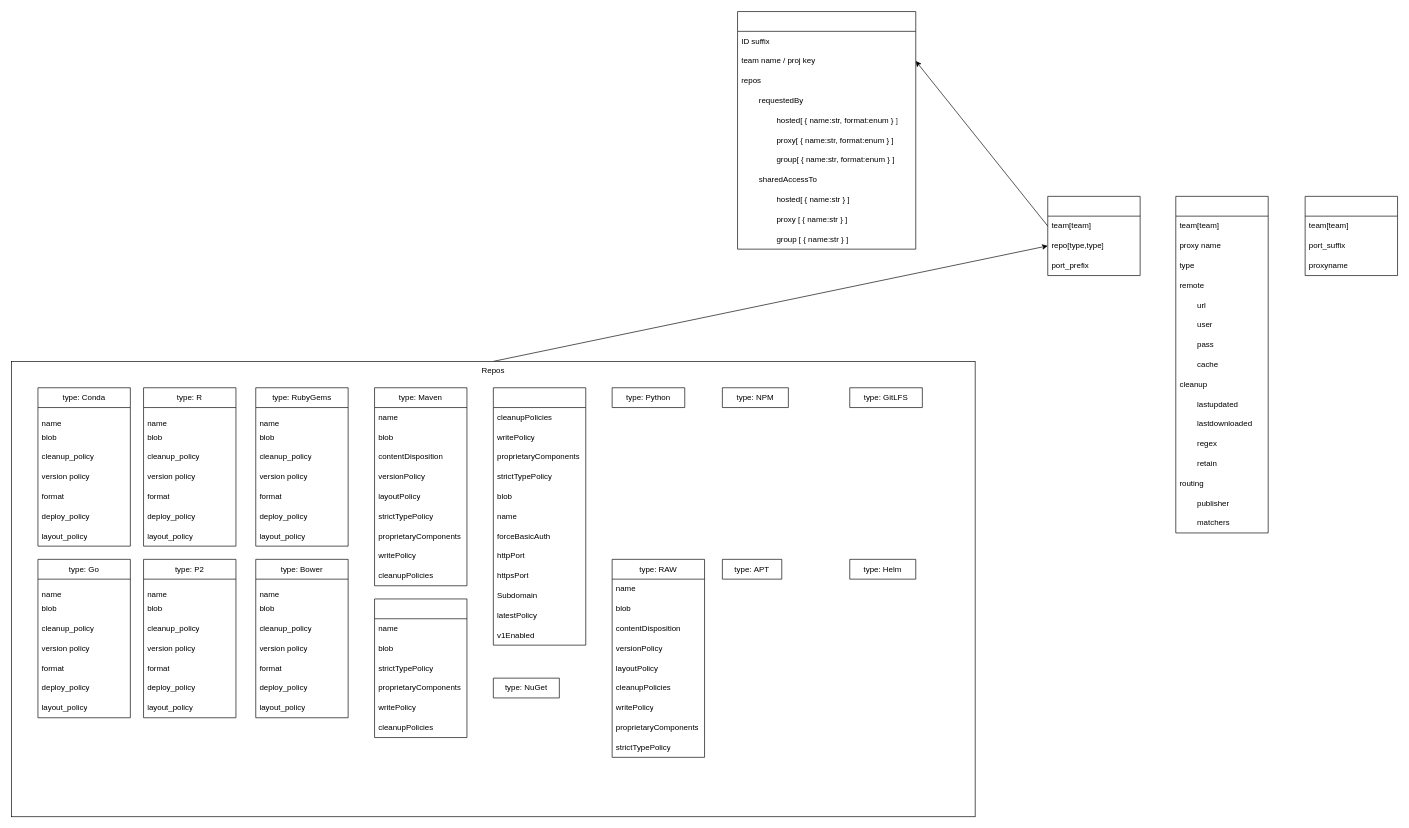
Image size: 1409x828. Some labels were removed from this diagram. Each missing label, with the box of its shape:
Group repo list: (1304, 196, 1398, 276)
Hosted repo list: (1047, 196, 1140, 276)
Proxy repo LIst: (1175, 196, 1268, 533)
Team list: (737, 11, 916, 249)
type: Docker: (493, 387, 586, 645)
type: Yum: (374, 598, 467, 738)
